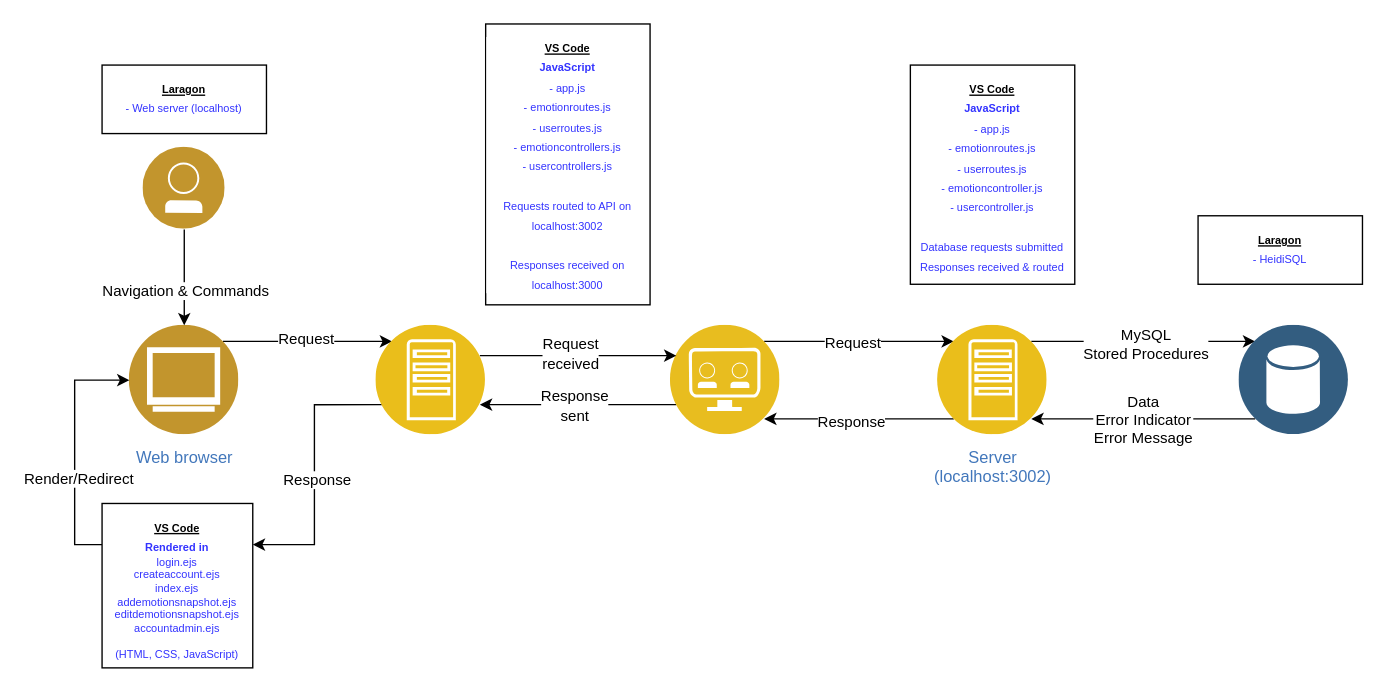
Image size: 1386x692. Some labels were removed from this diagram. The shapes that lost their labels are listed below. From the top down, each one's centre as x and y in pixels, then its label:
At (x=183, y=188): "User".
At (x=430, y=379): "Server (localhost:3000)".
At (x=725, y=379): "API".
At (x=1293, y=379): "Database".
